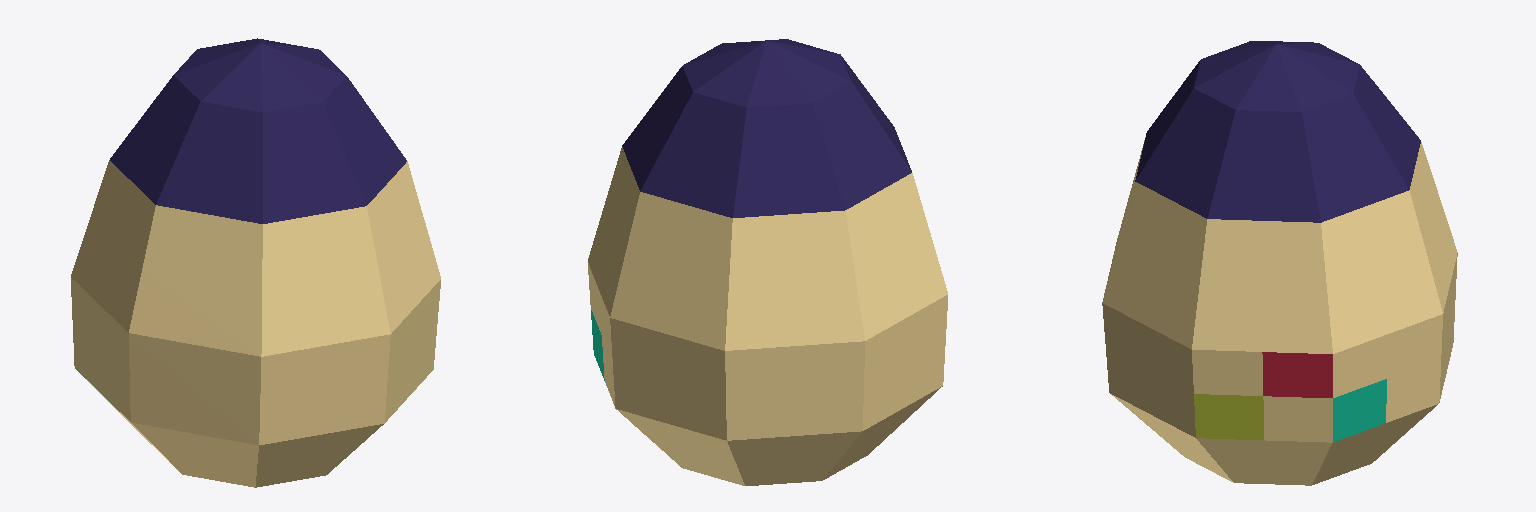
File: huevo5.obj
The picture shows the model from 3 angles: view 1: azimuth 30°, elevation 25°; view 2: azimuth 150°, elevation 25°; view 3: azimuth 270°, elevation 25°; orthographic projection.
Parts seen in each view (by area): view 1: Object_0.005; view 2: Object_0.005; view 3: Object_0.005.
Boxes of the visible parts, box(x1,y1,x2,y2) form: Object_0.005: box(71, 38, 440, 487); Object_0.005: box(588, 39, 947, 485); Object_0.005: box(1102, 41, 1457, 485).
Bounding box in the file's own units: 0.3904 × 0.5173 × 0.3904.